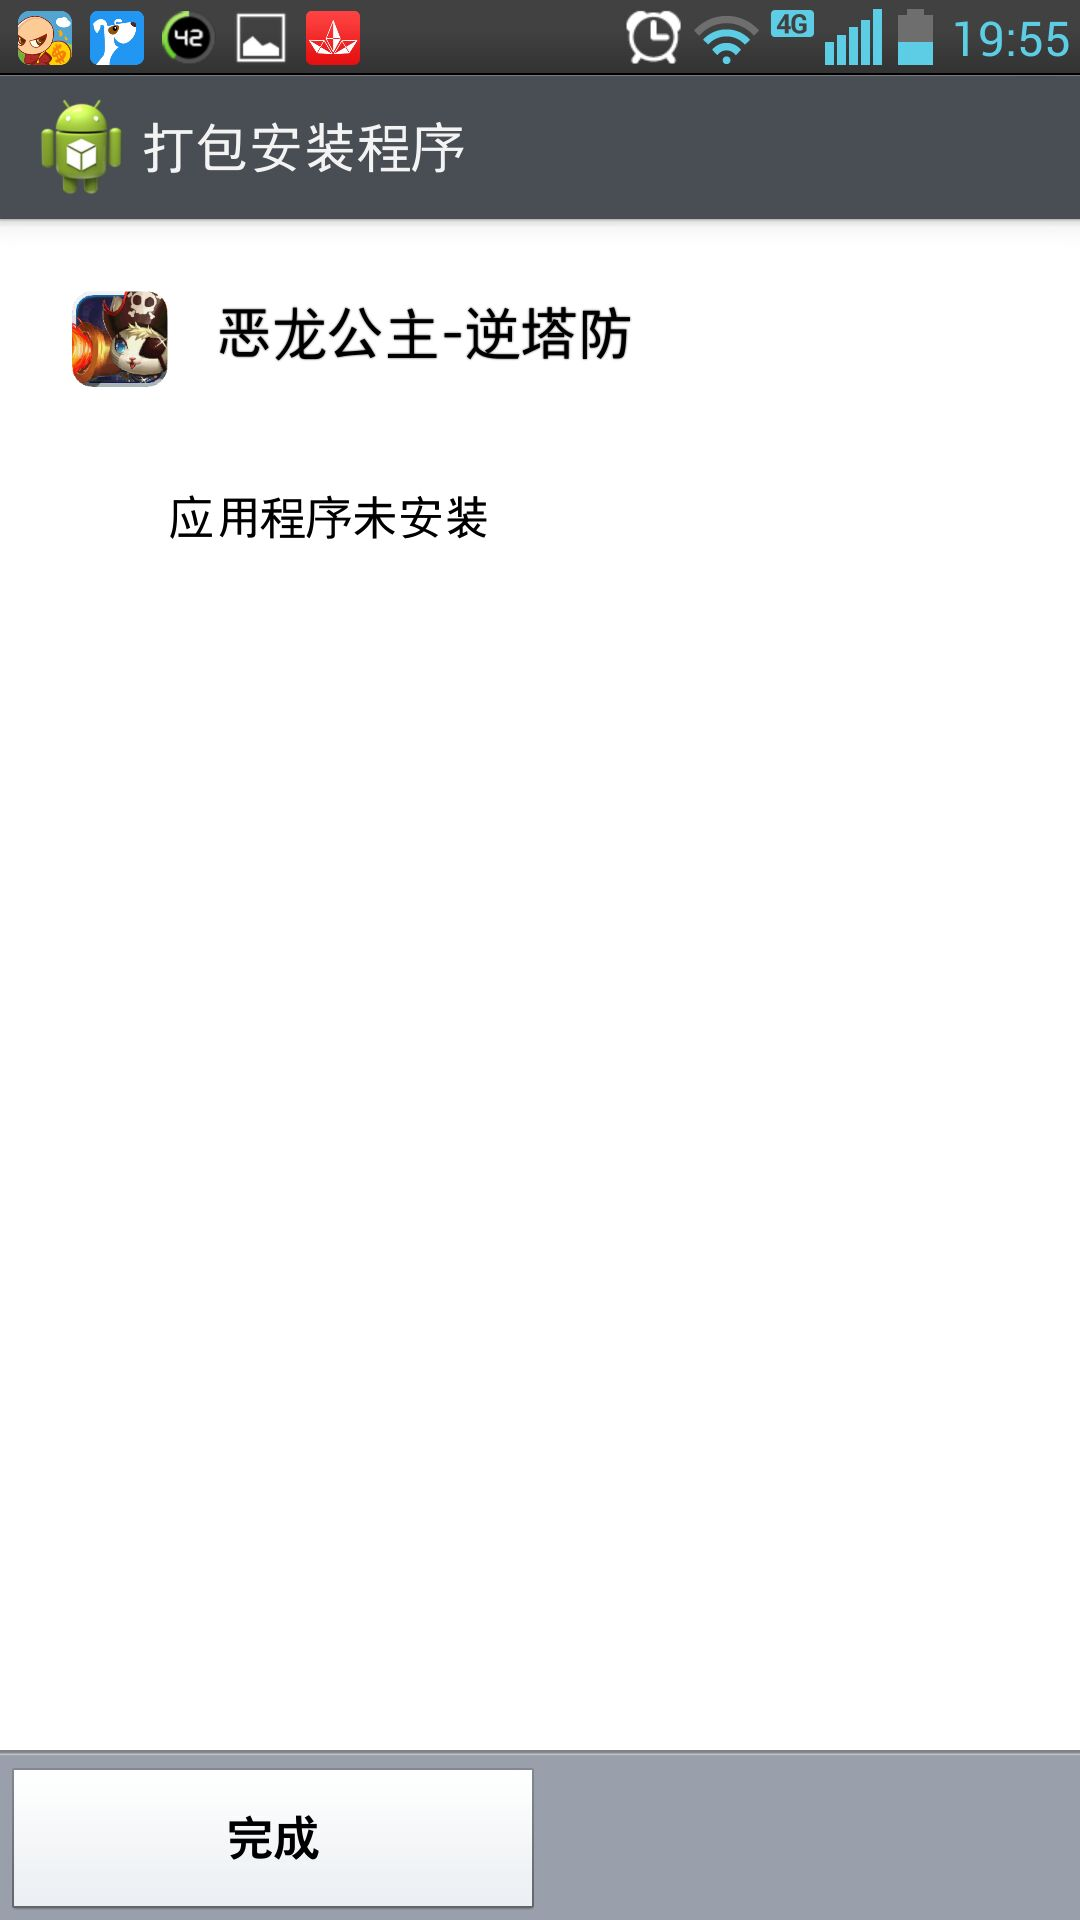button: (3, 1763, 567, 1913)
